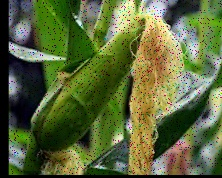corn_plant: (39, 9, 176, 149)
